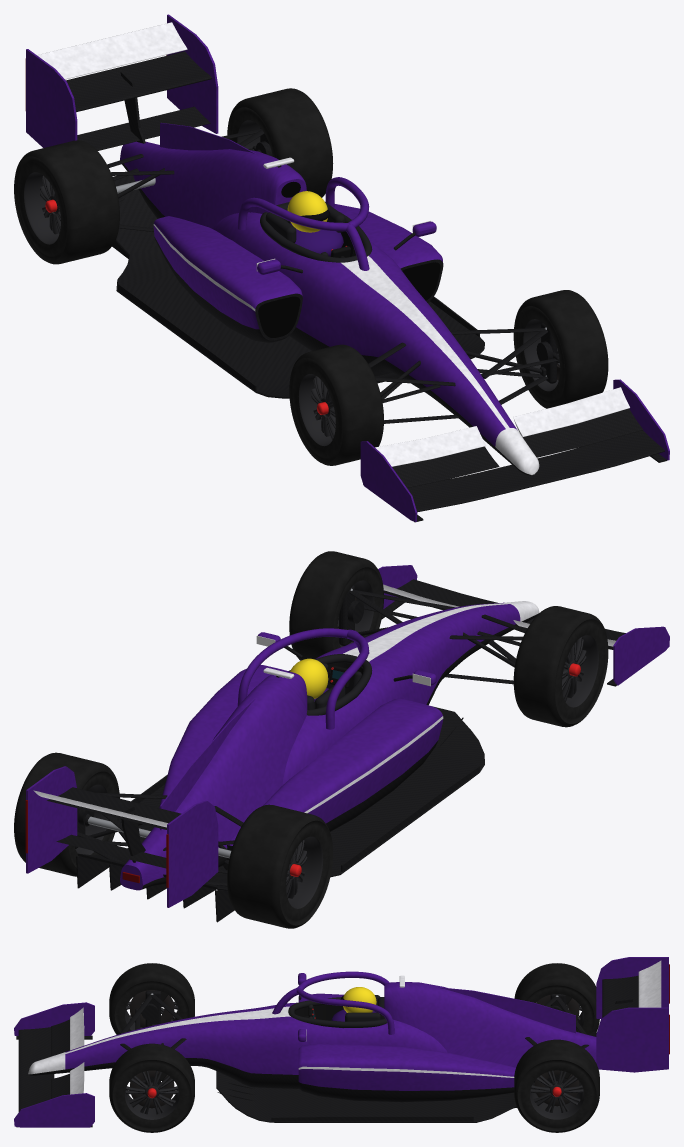
The model's file is car_f1.glb.
The picture shows the model from 3 angles, top to bottom: view 1: azimuth 30°, elevation 25°; view 2: azimuth 150°, elevation 25°; view 3: azimuth 270°, elevation 25°; orthographic projection. The views are drawn at different scales.
Parts seen in each view (by area): view 1: car_f1, wheel_RR, front_flap, wheel_FR, wheel_FL, wheel_RL, rear_flap, steer_FL; view 2: car_f1, wheel_RR, wheel_FR, wheel_FL, wheel_RL, steer_FL, rear_flap, front_flap; view 3: car_f1, wheel_RL, wheel_FL, wheel_FR, wheel_RR, front_flap, rear_flap, steer_FR.
Boxes of the visible parts, <box> form: car_f1: <box>25,14,669,522</box>; wheel_RR: <box>14,140,119,264</box>; front_flap: <box>375,387,642,487</box>; wheel_FR: <box>289,344,383,465</box>; wheel_FL: <box>513,290,608,408</box>; wheel_RL: <box>227,88,333,197</box>; rear_flap: <box>37,22,187,79</box>; steer_FL: <box>536,322,559,383</box>; car_f1: <box>25,565,669,922</box>; wheel_RR: <box>227,804,332,928</box>; wheel_FR: <box>513,606,608,727</box>; wheel_FL: <box>289,551,383,660</box>; wheel_RL: <box>14,752,119,876</box>; steer_FL: <box>339,585,364,645</box>; rear_flap: <box>33,790,167,827</box>; front_flap: <box>383,584,616,649</box>; car_f1: <box>14,957,669,1127</box>; wheel_RL: <box>514,1039,599,1132</box>; wheel_FL: <box>109,1043,194,1132</box>; wheel_FR: <box>109,963,194,1034</box>; wheel_RR: <box>514,963,599,1034</box>; front_flap: <box>51,1007,84,1098</box>; rear_flap: <box>638,960,661,1007</box>; steer_FR: <box>135,990,167,1026</box>.
Bounding box in the file's own units: 1.89 × 0.986 × 5.51.
32 materials, 9 textured.
